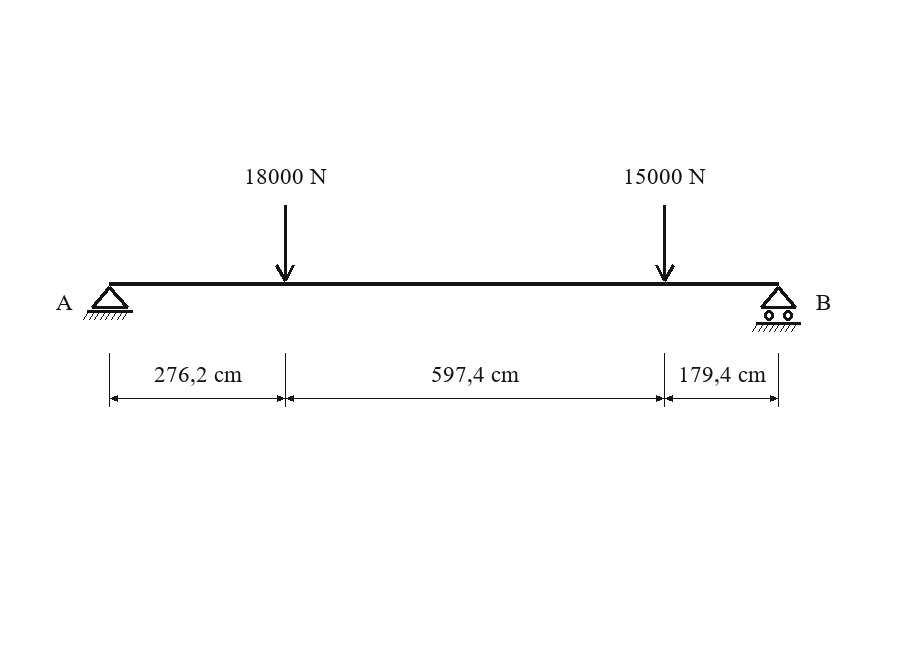pin_support: (83, 286, 133, 320)
point_load: (275, 205, 295, 282), (655, 205, 675, 282)
roller_support: (752, 286, 801, 332)
